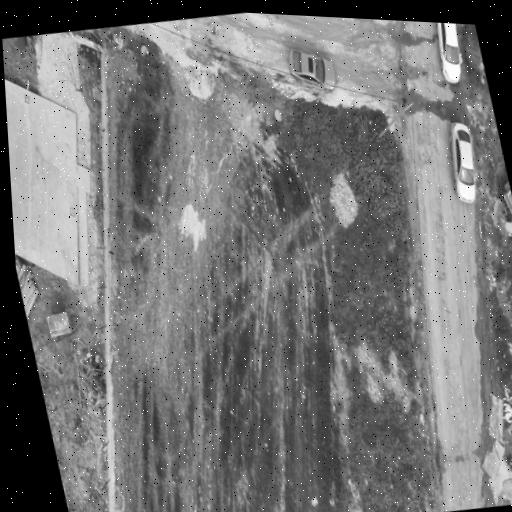car: (450, 121, 475, 202), (289, 48, 336, 89), (437, 23, 462, 82)
